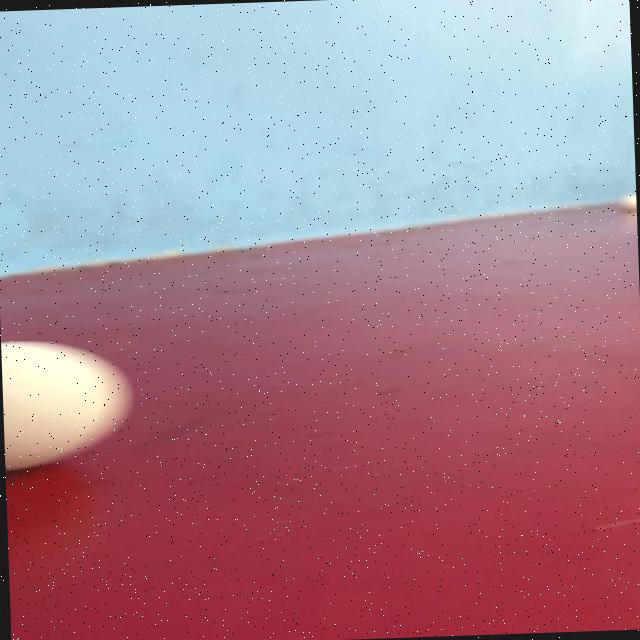ping-pong-ball: (0, 336, 126, 470)
